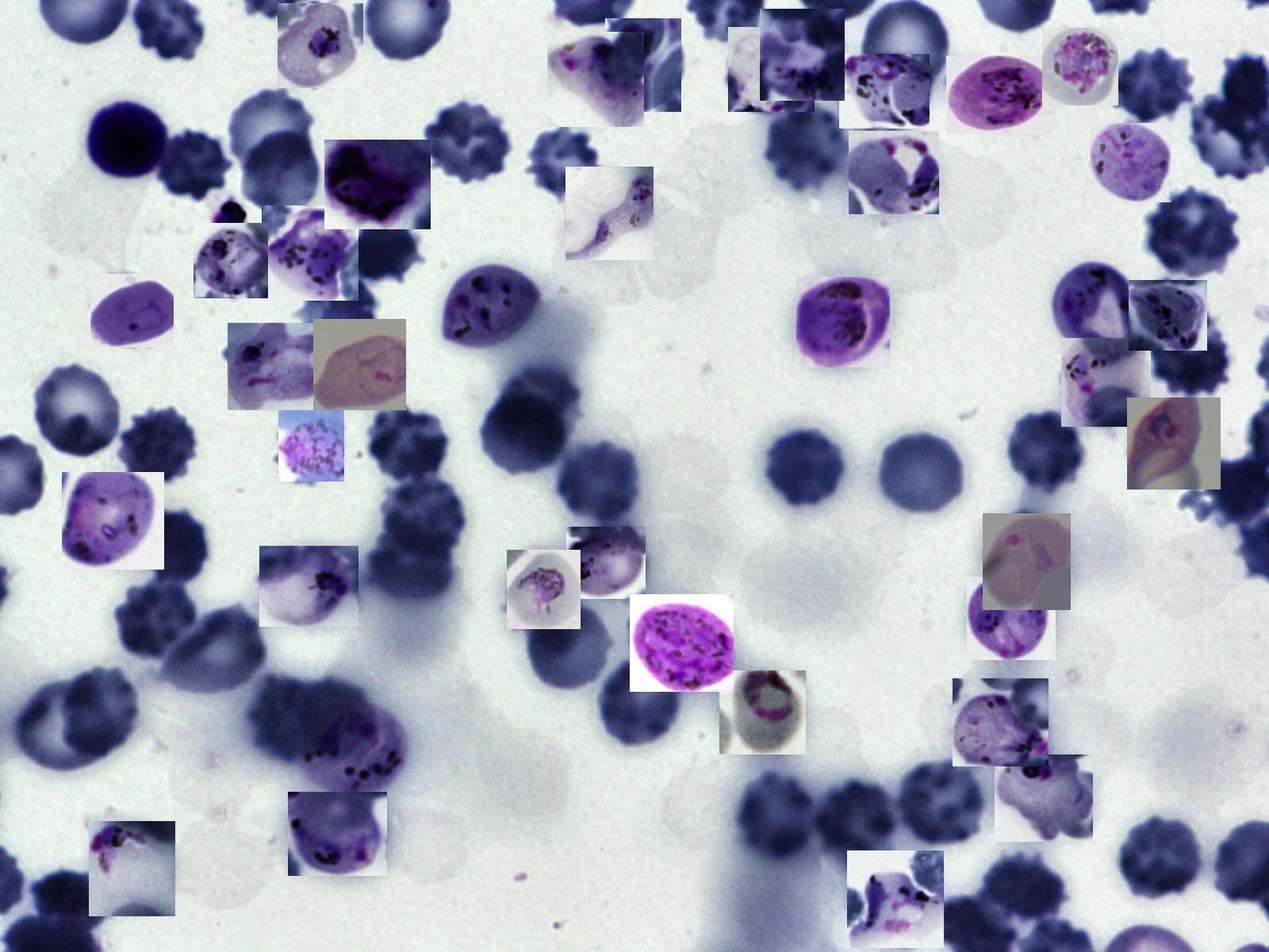Infected: (297, 701, 412, 800), (630, 594, 734, 692), (62, 472, 164, 570), (847, 850, 944, 948), (439, 262, 543, 353), (325, 140, 431, 229), (262, 205, 358, 301), (547, 32, 644, 127), (1047, 263, 1144, 357), (1127, 397, 1221, 489), (995, 755, 1093, 843), (983, 513, 1071, 610), (313, 319, 406, 410), (796, 277, 890, 367), (953, 678, 1049, 766), (228, 323, 324, 410), (289, 792, 388, 876), (565, 167, 654, 260), (946, 56, 1052, 134), (89, 821, 175, 916), (259, 546, 358, 627), (1061, 338, 1151, 427), (761, 10, 845, 101), (849, 131, 939, 214), (728, 27, 815, 112), (83, 98, 171, 182), (967, 577, 1056, 660), (719, 670, 806, 754), (278, 3, 363, 88), (605, 18, 681, 112), (839, 54, 930, 129), (1090, 123, 1171, 202), (90, 274, 174, 347), (1042, 28, 1118, 106), (507, 550, 581, 629), (566, 527, 646, 599), (194, 223, 268, 298), (1129, 280, 1207, 351), (278, 400, 344, 482)
Uninfected: (13, 680, 113, 781), (159, 604, 265, 697), (27, 360, 126, 459), (477, 383, 575, 479), (595, 655, 688, 748), (58, 666, 144, 765), (223, 87, 316, 177), (378, 474, 473, 562), (894, 760, 987, 849), (1146, 189, 1243, 274), (873, 432, 968, 517), (239, 129, 325, 222), (734, 770, 819, 863), (762, 104, 851, 192), (554, 439, 645, 524), (1114, 817, 1207, 900), (1148, 313, 1236, 397), (112, 579, 201, 662), (527, 597, 605, 691), (1004, 409, 1089, 495), (424, 101, 514, 182), (762, 428, 849, 511), (815, 781, 897, 865), (116, 408, 200, 489), (365, 405, 453, 482), (980, 850, 1068, 925), (297, 274, 381, 352), (1110, 48, 1195, 125), (248, 674, 322, 762), (364, 530, 453, 602), (134, 504, 213, 585), (342, 210, 423, 284), (154, 127, 232, 203), (520, 129, 603, 199), (535, 123, 597, 197), (29, 869, 104, 930)
